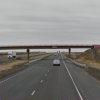Car: (48, 54, 62, 69)
